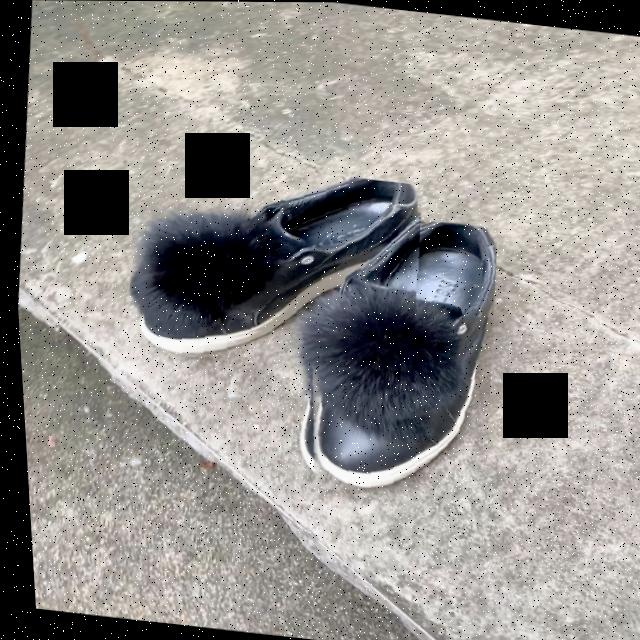shoe: (125, 177, 418, 358), (305, 221, 493, 492)
